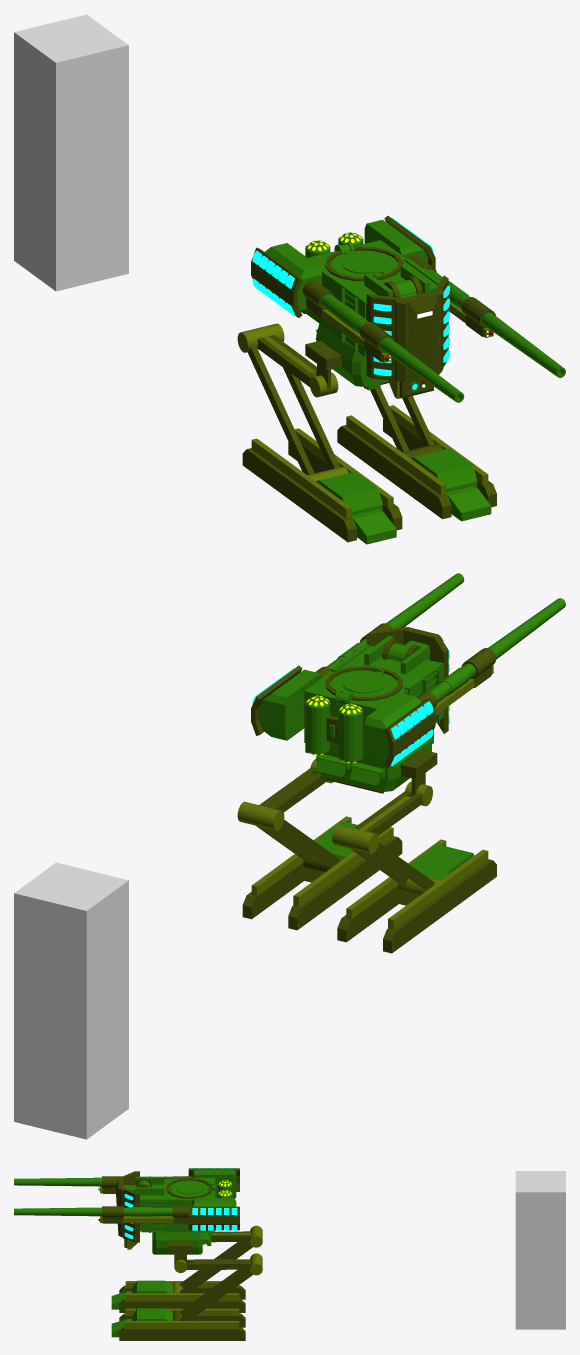
Rendered from fcc1.gltf.
The picture shows the model from 3 angles, top to bottom: view 1: azimuth 30°, elevation 25°; view 2: azimuth 150°, elevation 25°; view 3: azimuth 270°, elevation 25°; orthographic projection. The views are drawn at different scales.
Parts seen in each view (by area): view 1: Cube.2 (×6), Cube.1 (×6), Cube (×4), Cube.3 (×2), Cube-Armor 3, leg lower (×3), Tube, Cube.4, Lower Base-Armor 2, Upper Base, Cylinder.1 (×2), Cylinder.3 (+4 smaller); view 2: Cube.2 (×6), Cube.1 (×5), Cube (×5), Oil Tank, Lower Base-Armor 2, Upper Base, Tube, knee (×2), Cube.4, leg lower (×2), Cube-Armor 3, Cube.3 (+4 smaller); view 3: Cube.1 (×7), Cube.2 (×7), Cube (×5), leg lower (×4), Tube, Cube.3 (×2), Cube.4, Lower Base-Armor 2, Cube-Armor 3, Upper Base, knee (×2), Cylinder.3 (+6 smaller).
Boxes of the visible parts, x1,y1,x2,y2 form: Cube.2 (×6): (14, 14, 488, 518); Cube.1 (×6): (14, 108, 496, 542); Cube (×4): (14, 185, 440, 386); Cube.3 (×2): (316, 448, 491, 544); Cube-Armor 3: (366, 275, 448, 382); leg lower (×3): (247, 339, 409, 474); Tube: (380, 312, 565, 402); Cube.4: (251, 216, 435, 317); Lower Base-Armor 2: (315, 324, 388, 386); Upper Base: (308, 240, 437, 355); Cylinder.1 (×2): (336, 254, 469, 333); Cylinder.3: (359, 297, 495, 352); Cube.2 (×6): (14, 636, 488, 987); Cube.1 (×5): (14, 836, 496, 1063); Cube (×5): (14, 644, 443, 1139); Oil Tank: (305, 695, 363, 763); Lower Base-Armor 2: (315, 738, 431, 791); Upper Base: (304, 645, 443, 757); Tube: (386, 573, 565, 659); knee (×2): (237, 801, 378, 853); Cube.4: (251, 665, 435, 767); leg lower (×2): (279, 820, 434, 890); Cube-Armor 3: (366, 627, 448, 733); Cube.3: (411, 844, 474, 880); Cube.1 (×7): (100, 1186, 565, 1340); Cube.2 (×7): (102, 1171, 565, 1328); Cube (×5): (141, 1170, 565, 1329); leg lower (×4): (179, 1241, 252, 1320); Tube: (14, 1177, 101, 1216); Cube.3 (×2): (111, 1280, 172, 1337); Cube.4: (188, 1168, 239, 1230); Lower Base-Armor 2: (152, 1232, 211, 1254); Cube-Armor 3: (116, 1171, 139, 1242); Upper Base: (140, 1178, 215, 1231); knee (×2): (250, 1225, 262, 1275); Cylinder.3: (102, 1176, 123, 1217).
Size of the model in its own units: 8.2 by 12.05 by 43.76.
